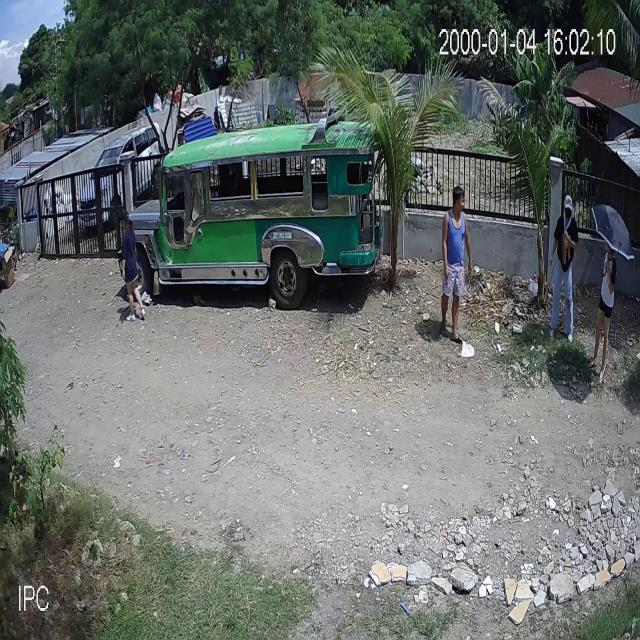standing: (548, 198, 579, 340), (588, 243, 616, 390)
walking: (428, 185, 473, 347), (123, 208, 147, 328)
